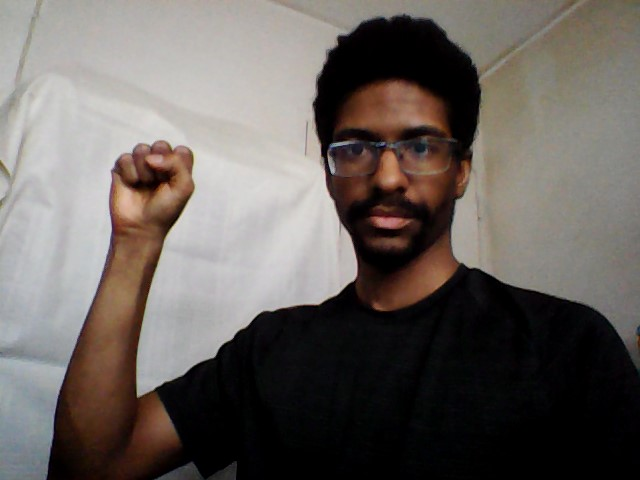s: (104, 137, 201, 243)
